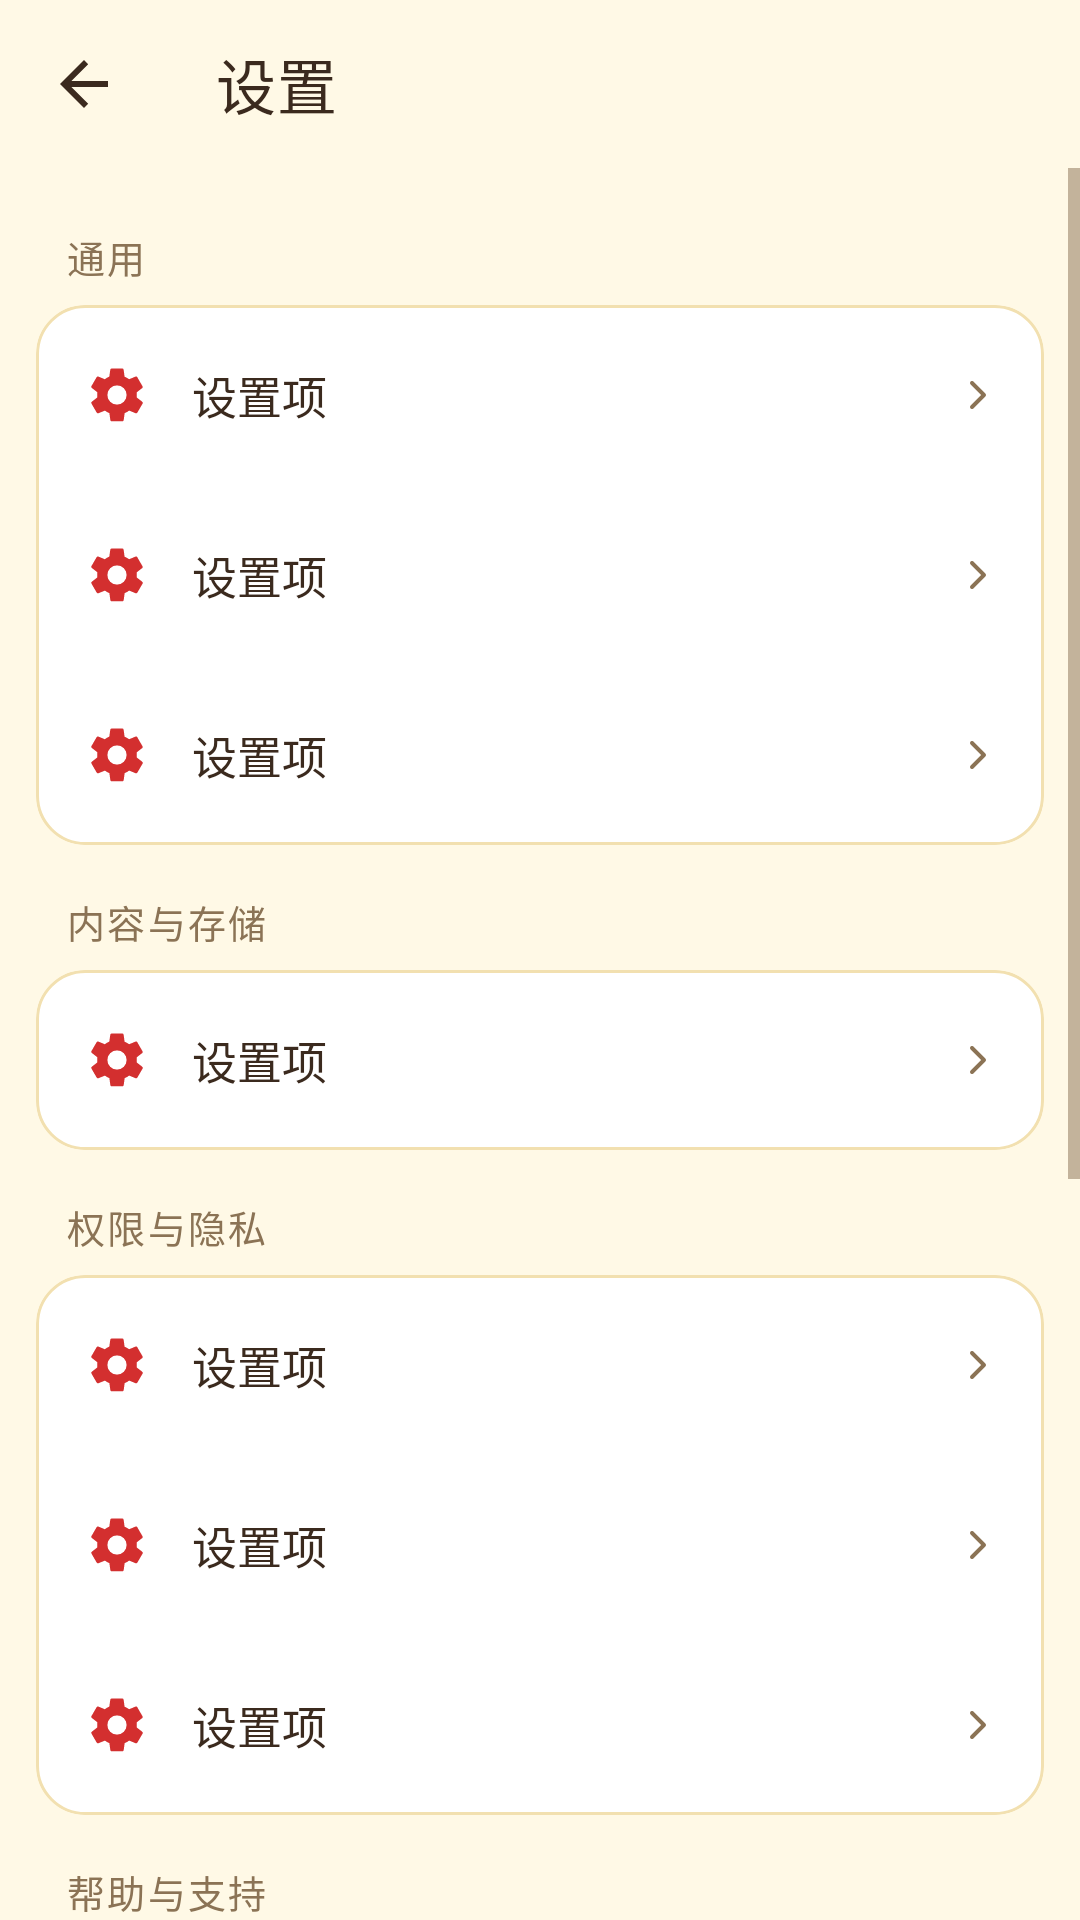

Icons on this 1080 × 1920 Android screen, each with its box as [x1,y1,x2,y2]:
chevron right: [970,381,986,409], [970,561,986,589], [970,741,986,769], [970,1046,986,1074], [970,1351,986,1379], [970,1531,986,1559], [970,1711,986,1739]
settings: [91,368,143,422], [91,548,143,602], [91,728,143,782], [91,1033,143,1087], [91,1338,143,1392], [91,1518,143,1572], [91,1698,143,1752]
